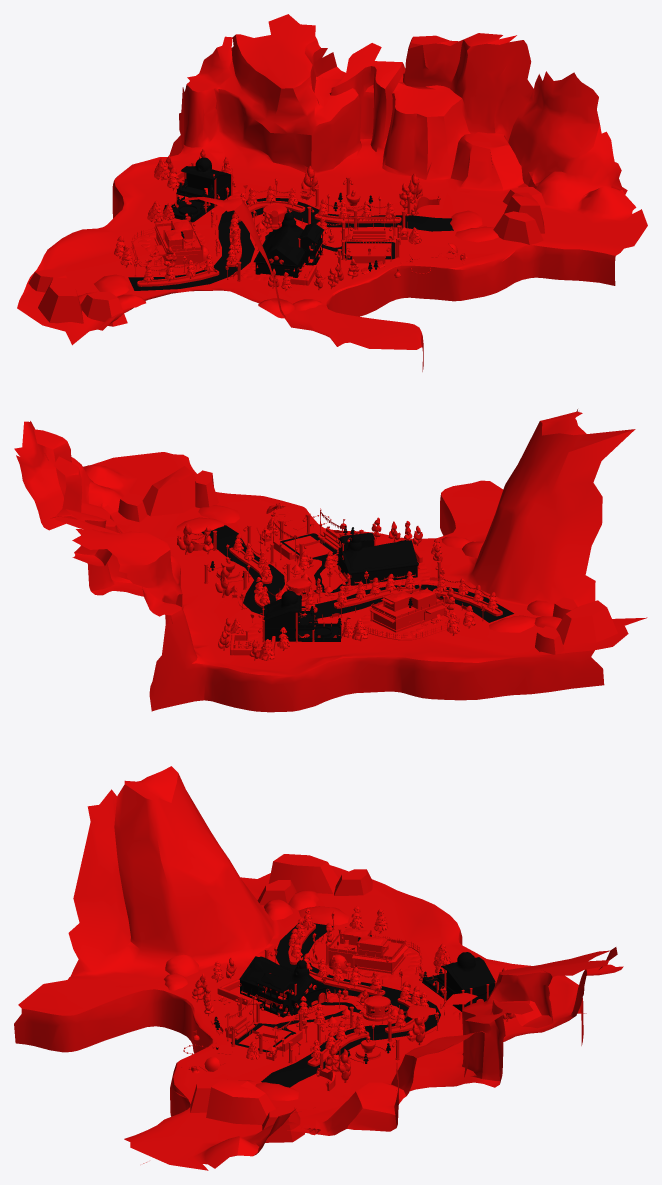
File: Individual_BeverlyChills_Summer_01.glb
3 renders of one model, top to bottom at view 1: azimuth 30°, elevation 25°; view 2: azimuth 150°, elevation 25°; view 3: azimuth 270°, elevation 25°, orthographic. The views are drawn at different scales.
Visible parts, largest first — view 1: pasted__BeverlyChillsRoad_01, pasted__polySurface154, polySurface9, pasted__Object_RoadIslands, pasted__Object_IceRock4, pasted__Building_LuxuryHouse3, pasted__Object_IceRock8, pasted__Object_IceRock3, pasted__Object_IceRock6, pasted__Building_TennisCourt2, pasted__SnowPatch8, pasted__Object_IceRock5; view 2: pasted__BeverlyChillsRoad_01, pasted__polySurface154, polySurface9, pasted__Building_LuxuryHouse3, pasted__Object_IceRock6, pasted__Object_IceRock4, pasted__Object_RoadIslands, pasted__Object_IceRock8, pasted__Object_IceRock5, pasted__Object_IceRock7, pasted__SnowPatch8, pasted__SnowPatch6 (+3 smaller); view 3: pasted__BeverlyChillsRoad_01, pasted__polySurface154, pasted__Object_IceRock6, pasted__Building_LuxuryHouse3, polySurface9, pasted__Object_IceRock4, pasted__Object_RoadIslands, pasted__Object_IceRock7, pasted__Object_IceRock5, pasted__Object_IceRock3, pasted__SnowPatch8, pasted__Building_RoundCoffeeShop1.
Boxes of the visible parts, x1,y1,x2,y2 form: pasted__BeverlyChillsRoad_01: [17, 14, 647, 371]; pasted__polySurface154: [253, 212, 323, 277]; polySurface9: [171, 157, 230, 222]; pasted__Object_RoadIslands: [137, 201, 401, 286]; pasted__Object_IceRock4: [38, 277, 83, 323]; pasted__Building_LuxuryHouse3: [154, 220, 201, 264]; pasted__Object_IceRock8: [493, 211, 543, 244]; pasted__Object_IceRock3: [80, 291, 127, 326]; pasted__Object_IceRock6: [504, 192, 544, 233]; pasted__Building_TennisCourt2: [346, 243, 391, 256]; pasted__SnowPatch8: [94, 274, 129, 296]; pasted__Object_IceRock5: [28, 269, 66, 292]; pasted__BeverlyChillsRoad_01: [14, 409, 647, 712]; pasted__polySurface154: [336, 533, 418, 585]; polySurface9: [263, 590, 341, 641]; pasted__Building_LuxuryHouse3: [372, 588, 443, 632]; pasted__Object_IceRock6: [142, 466, 196, 516]; pasted__Object_IceRock4: [556, 600, 617, 644]; pasted__Object_RoadIslands: [229, 547, 502, 616]; pasted__Object_IceRock8: [195, 470, 218, 507]; pasted__Object_IceRock5: [535, 626, 564, 654]; pasted__Object_IceRock7: [118, 493, 147, 522]; pasted__SnowPatch8: [489, 615, 535, 632]; pasted__SnowPatch6: [198, 505, 239, 523]; pasted__BeverlyChillsRoad_01: [14, 766, 623, 1170]; pasted__polySurface154: [239, 956, 329, 1017]; pasted__Object_IceRock6: [206, 1079, 275, 1124]; pasted__Building_LuxuryHouse3: [328, 927, 405, 973]; polySurface9: [422, 952, 495, 1011]; pasted__Object_IceRock4: [268, 854, 338, 893]; pasted__Object_RoadIslands: [288, 924, 428, 1066]; pasted__Object_IceRock7: [262, 1106, 304, 1142]; pasted__Object_IceRock5: [334, 869, 372, 895]; pasted__Object_IceRock3: [257, 880, 296, 905]; pasted__SnowPatch8: [298, 906, 349, 925]; pasted__Building_RoundCoffeeShop1: [359, 995, 391, 1021].
Size of the model in its own units: 119 by 33.84 by 104.
